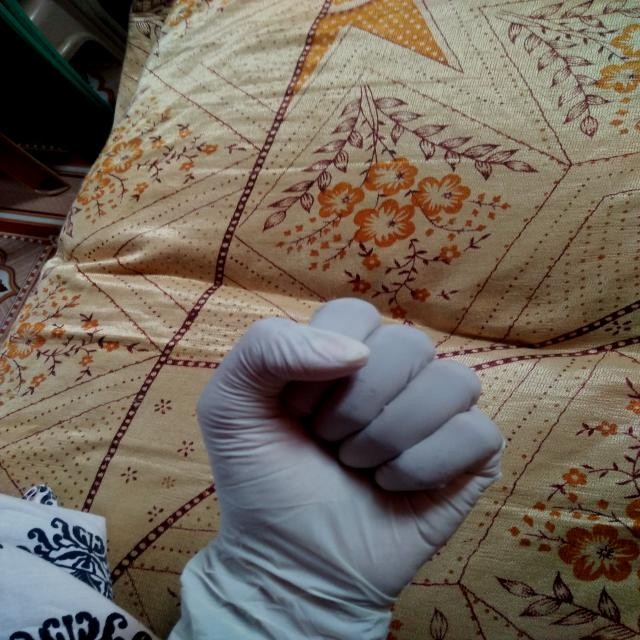glove: (162, 297, 516, 637)
